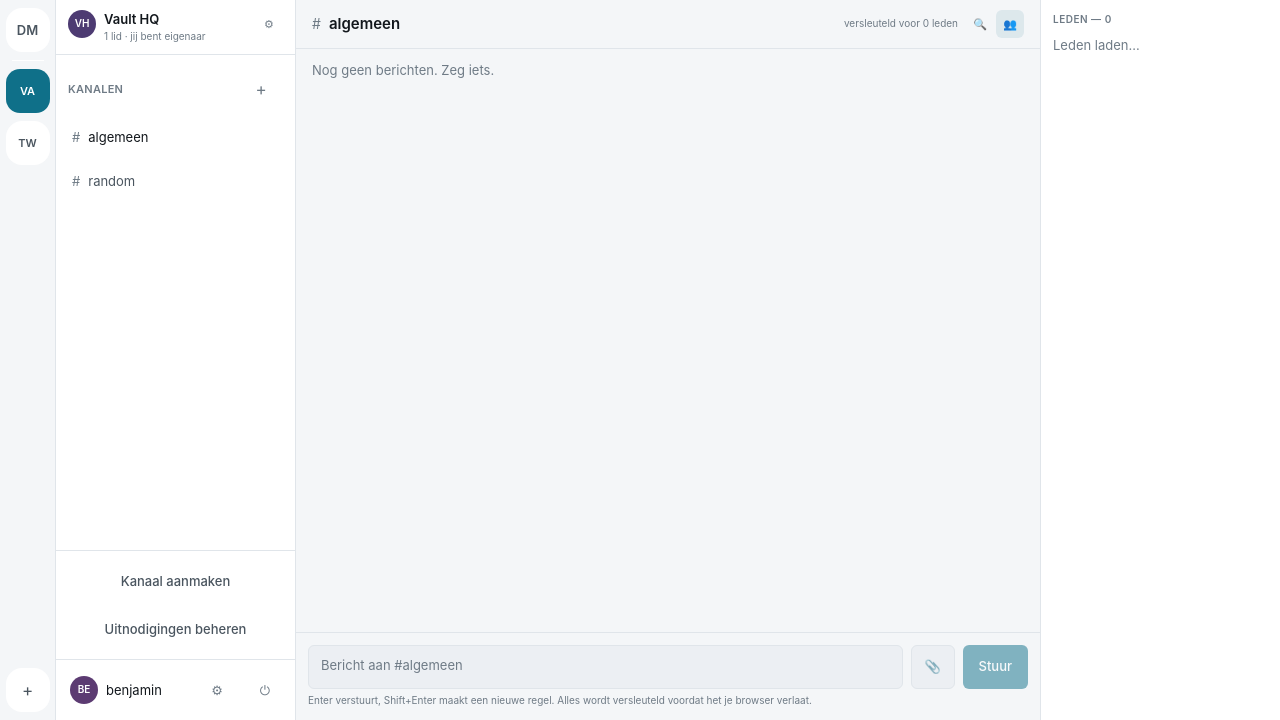
Test: A1 — navigating between DM mode and server mode › goes back to the conversation list from a server channel
The width and height of the screenshot is (1280, 720).
Expected: the heading "Kanalen" is shown, top-left (68, 82), bottom-right (123, 96)
Click the button titled "Directe berichten" at (28, 30), box top-left (6, 8), bottom-right (50, 52)
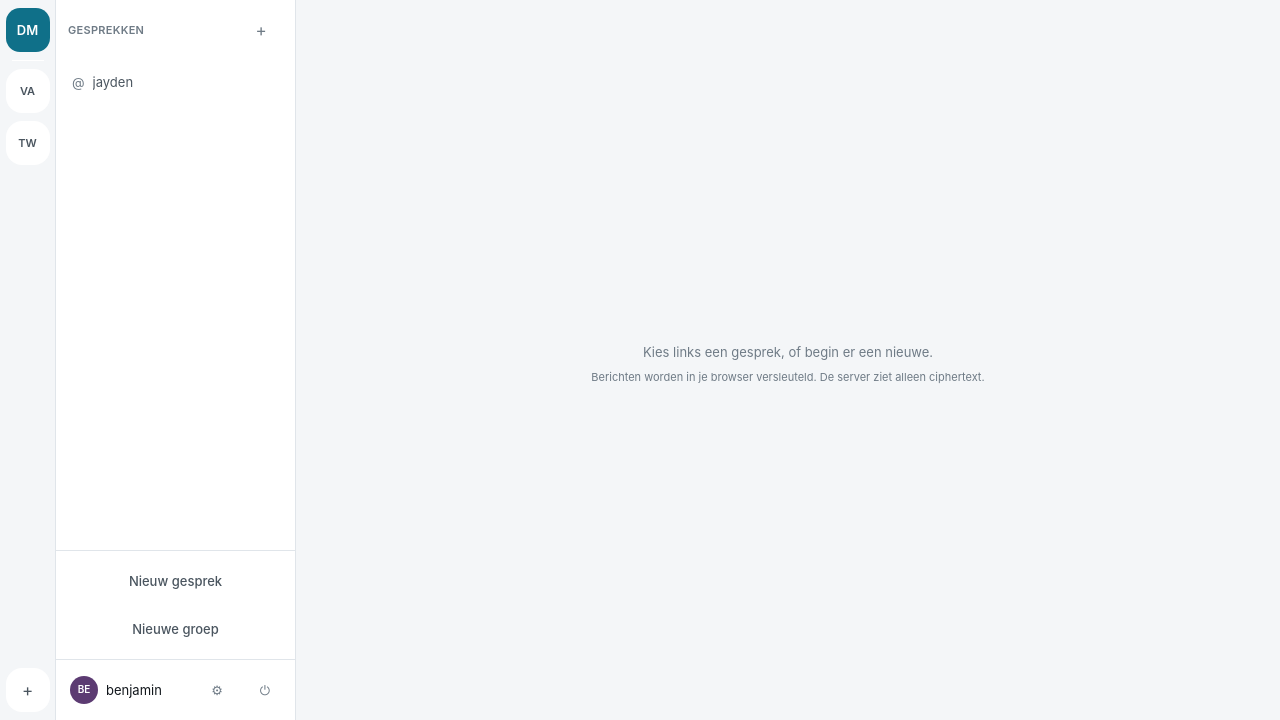
Result: the heading "Gesprekken" is shown at top-left (68, 23), bottom-right (144, 37)
Result: the heading "Kanalen" is gone
Result: the text "jayden" is shown at top-left (93, 74), bottom-right (133, 90)
